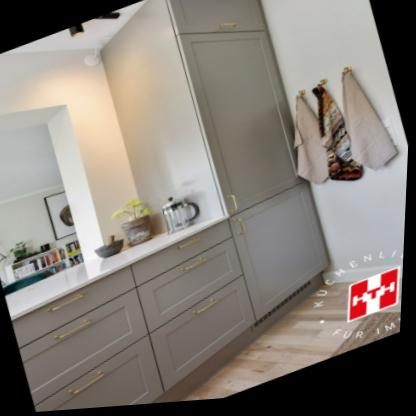Wooden floor: (184, 288, 366, 404)
